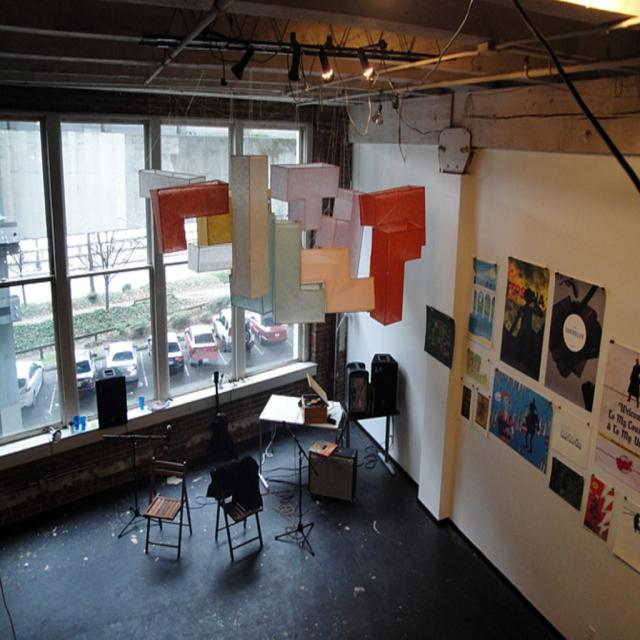chair: (208, 454, 265, 562), (141, 457, 193, 561)
desk: (258, 393, 342, 490)
